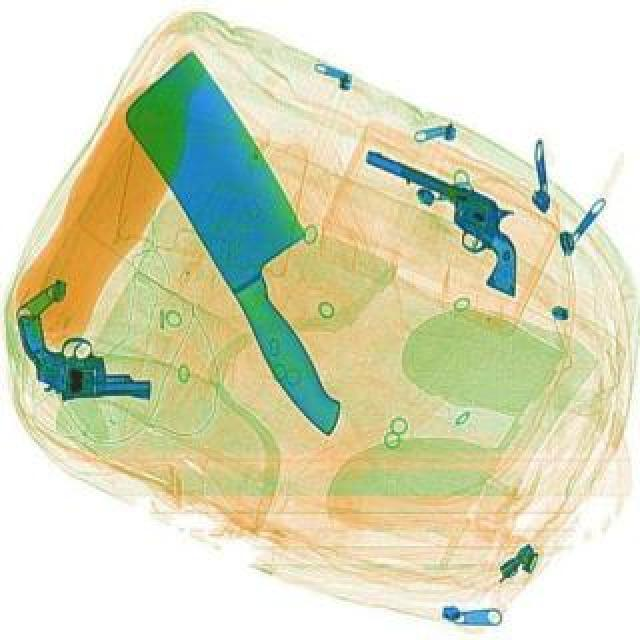gun: (352, 118, 566, 306), (0, 278, 160, 434)
knife: (94, 38, 416, 450)
